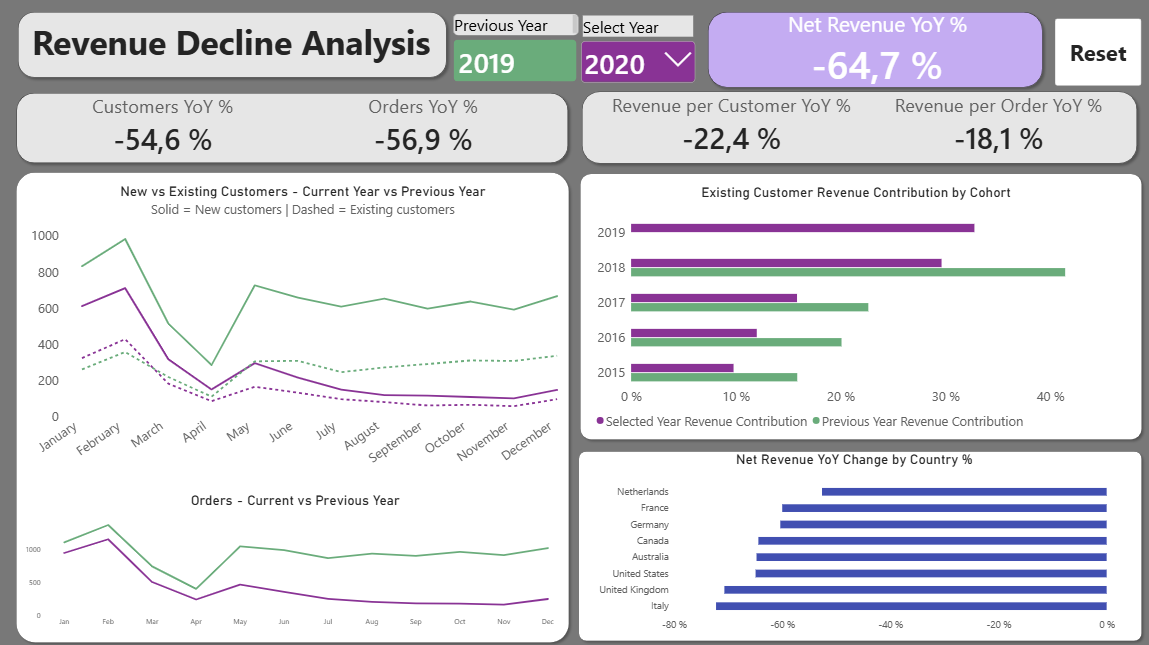

The page's visual inventory and layout, read from the dashboard file:
{"tool":"powerbi","page":{"name":"Dashboard","canvas":[1920,1080],"ordinal":0},"visuals":[{"type":"group","id":"g1","title":"Background","box":[18.9,11.2,1893.2,1069],"z":0},{"type":"shape","box":[19,146.7,937.5,135],"z":0,"group":"g1"},{"type":"shape","box":[962.1,144.4,943.3,138.3],"z":1000,"group":"g1"},{"type":"lineChart","title":"New vs Existing Customers - Current Year vs Previous Year","fields":{"Category":["date.month"],"Y":["_Measures.New Customers","_Measures.Existing Customers","_Measures.New Customers LY","_Measures.Existing Customers LY"]},"box":[37.5,292.5,937.5,520],"z":1000},{"type":"shape","box":[1170.9,11.2,576,144],"z":2000,"group":"g1"},{"type":"slicer","fields":{"Values":["date.year"]},"box":[965,27,200,138],"z":2000},{"type":"shape","box":[21.3,11.2,732.5,127.5],"z":3000,"group":"g1"},{"type":"cardVisual","fields":{"Data":["_Measures.Customer YoY Growth %","_Measures.Orders YoY Growth %"]},"box":[60,150,860,120],"z":3000},{"type":"textbox","box":[55,32.5,705,95],"z":4000},{"type":"shape","box":[18.9,278.8,938.6,801.4],"z":4000,"group":"g1"},{"type":"shape","box":[757,68,205,70],"z":5000},{"type":"shape","box":[958.8,282.4,953.4,460.5],"z":5000,"group":"g1"},{"type":"cardVisual","fields":{"Data":["_Measures.Previous Year"]},"box":[750,36.7,207.5,95],"z":6000},{"type":"shape","box":[956.3,742.9,955.9,333.6],"z":6000,"group":"g1"},{"type":"cardVisual","fields":{"Data":["_Measures.Net Revenue YoY Growth %"]},"box":[1200,24,528,120],"z":7000},{"type":"lineChart","title":"Orders - Current vs Previous Year","fields":{"Y":["_Measures.Order Count","_Measures.Orders Count LY"],"Category":["date.monthshort"]},"box":[27.5,807.5,932.5,260],"z":8000},{"type":"clusteredBarChart","title":"Existing Customer Revenue Contribution by Cohort","fields":{"Category":["cohort_analysis.cohort_year"],"Y":["_Measures.Cohort Revenue Contribution %","_Measures.Cohort Revenue Contribution % LY"]},"box":[978.2,295.9,901.9,441.4],"z":9000},{"type":"clusteredBarChart","title":"Net Revenue YoY Change by Country %","fields":{"Category":["cohort_analysis.countryfull"],"Y":["_Measures.Net Revenue YoY Growth %"]},"box":[975.8,739.3,901.1,336],"z":10000},{"type":"textbox","box":[758,26,208,35],"z":11000},{"type":"cardVisual","fields":{"Data":["_Measures.Revenue per Customer Growth %","_Measures.Revenue per Order YoY %"]},"box":[1002.5,147.5,882.5,120],"z":12000},{"type":"actionButton","box":[1760,32,144,112],"z":13000}]}

Visuals, with their boxes in screenshot pixels (x1, y1, x2, y2), scaled from the page's 1920x1080 canvas onto the 1149x645 screenshot:
"Background" group: <box>11,7,1144,644</box>
shape: <box>11,88,572,168</box>
shape: <box>576,86,1140,169</box>
"New vs Existing Customers - Current Year vs Previous Year" lineChart: <box>22,175,583,485</box>
shape: <box>701,7,1045,93</box>
slicer - date.year: <box>577,16,697,99</box>
shape: <box>13,7,451,83</box>
cardVisual - _Measures.Customer YoY Growth % x _Measures.Orders YoY Growth %: <box>36,90,551,161</box>
textbox: <box>33,19,455,76</box>
shape: <box>11,167,573,644</box>
shape: <box>453,41,576,82</box>
shape: <box>574,169,1144,444</box>
cardVisual - _Measures.Previous Year: <box>449,22,573,79</box>
shape: <box>572,444,1144,643</box>
cardVisual - _Measures.Net Revenue YoY Growth %: <box>718,14,1034,86</box>
"Orders - Current vs Previous Year" lineChart: <box>16,482,574,638</box>
"Existing Customer Revenue Contribution by Cohort" clusteredBarChart: <box>585,177,1125,440</box>
"Net Revenue YoY Change by Country %" clusteredBarChart: <box>584,442,1123,642</box>
textbox: <box>454,16,578,36</box>
cardVisual - _Measures.Revenue per Customer Growth % x _Measures.Revenue per Order YoY %: <box>600,88,1128,160</box>
actionButton: <box>1053,19,1139,86</box>
